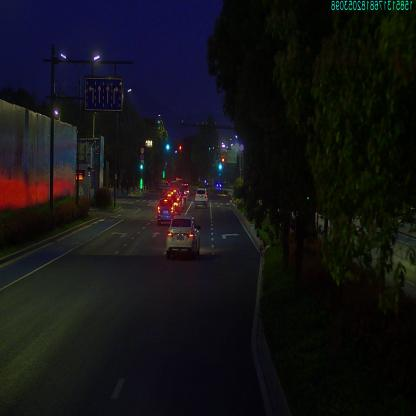traffic-light: (165, 142, 172, 153), (178, 144, 182, 150)
